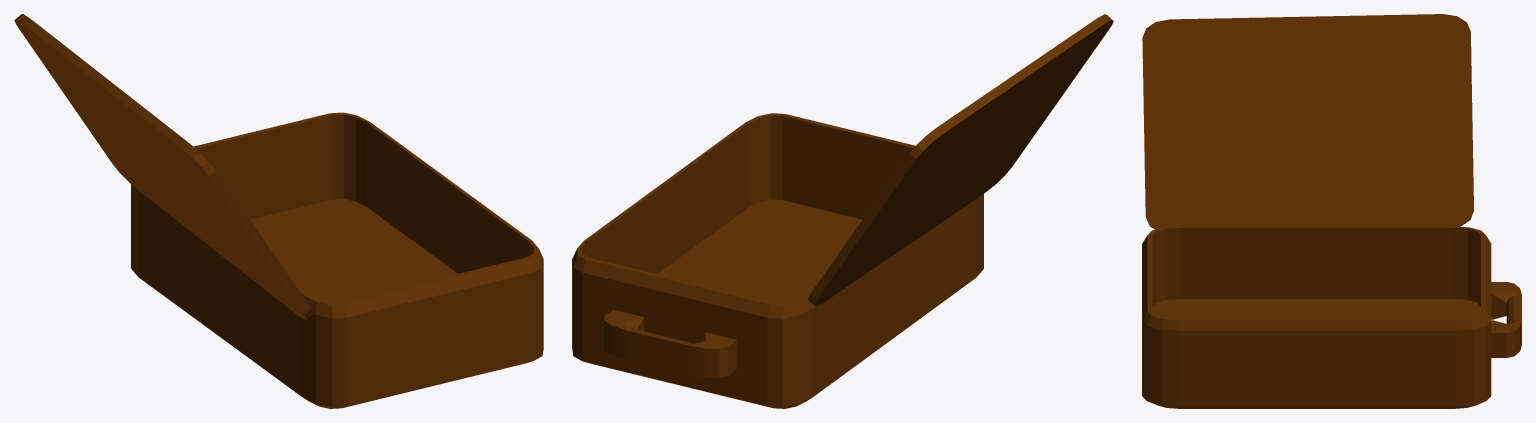
Rendered from Case.fbx.
3 renders of one model, left to right at view 1: azimuth 30°, elevation 25°; view 2: azimuth 150°, elevation 25°; view 3: azimuth 270°, elevation 25°, orthographic. The views are drawn at different scales.
Visible parts, largest first — view 1: Case.001; view 2: Case.001; view 3: Case.001.
Boxes of the visible parts, x1,y1,x2,y2 form: Case.001: [14, 14, 543, 408]; Case.001: [572, 14, 1113, 408]; Case.001: [1142, 14, 1521, 408].
Bounding box in the file's own units: 91.53 × 73.12 × 99.27.
